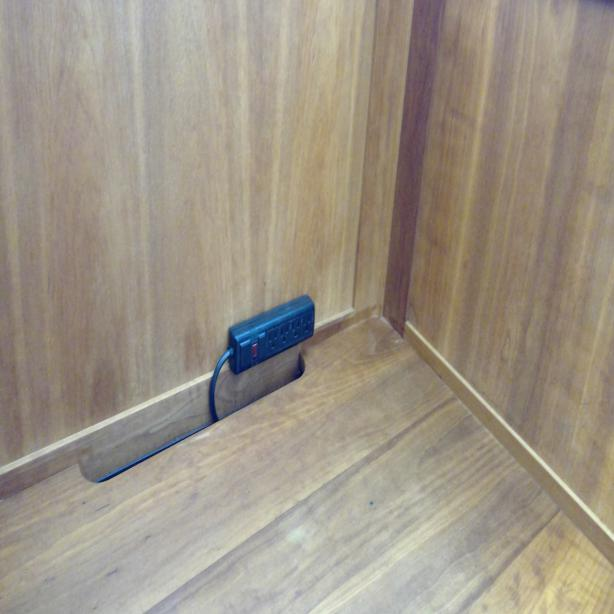typeb: (266, 331, 280, 355), (301, 314, 314, 337), (278, 323, 290, 345), (291, 319, 301, 340)
